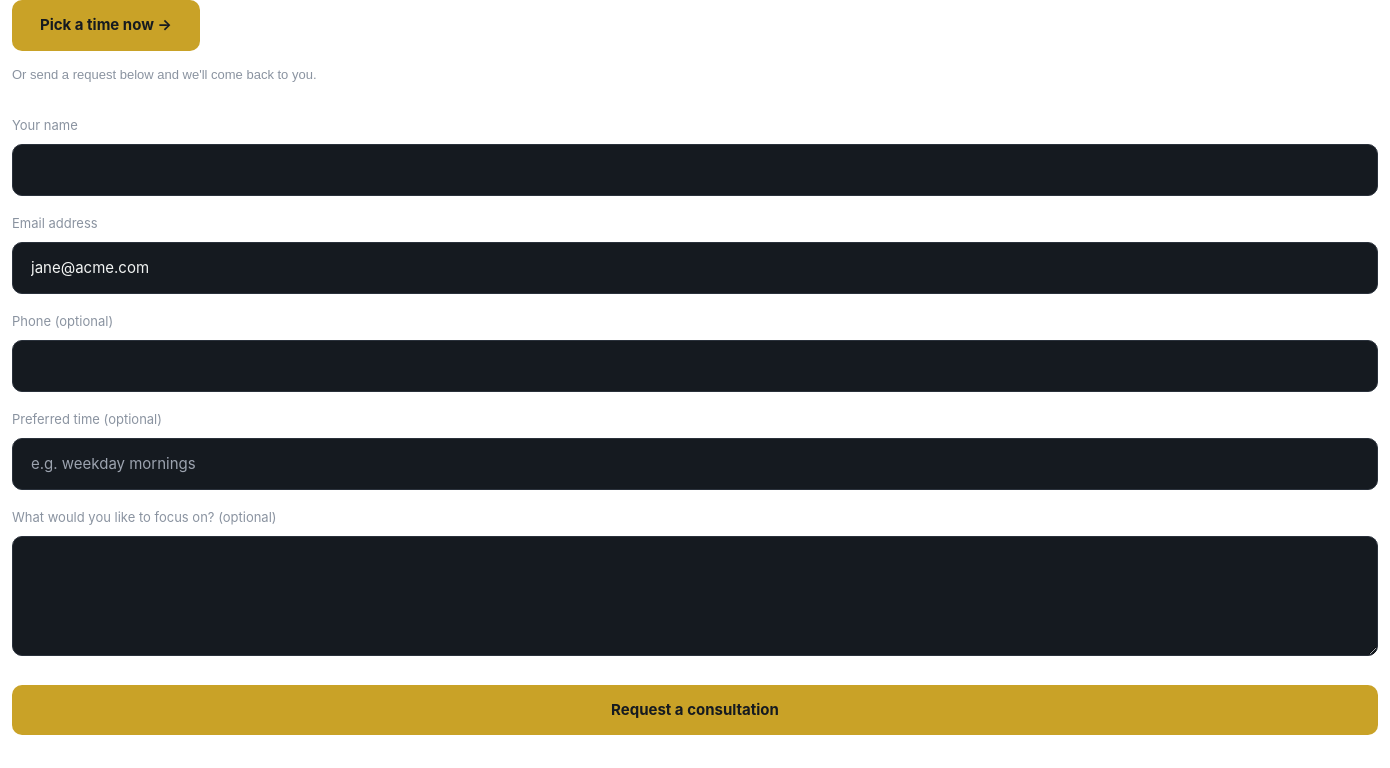
Test: ConsultationForm › confirms once the request is stored
Type "Jane" into the field labelled "Your name" at (695, 170), box [12, 144, 1378, 196]
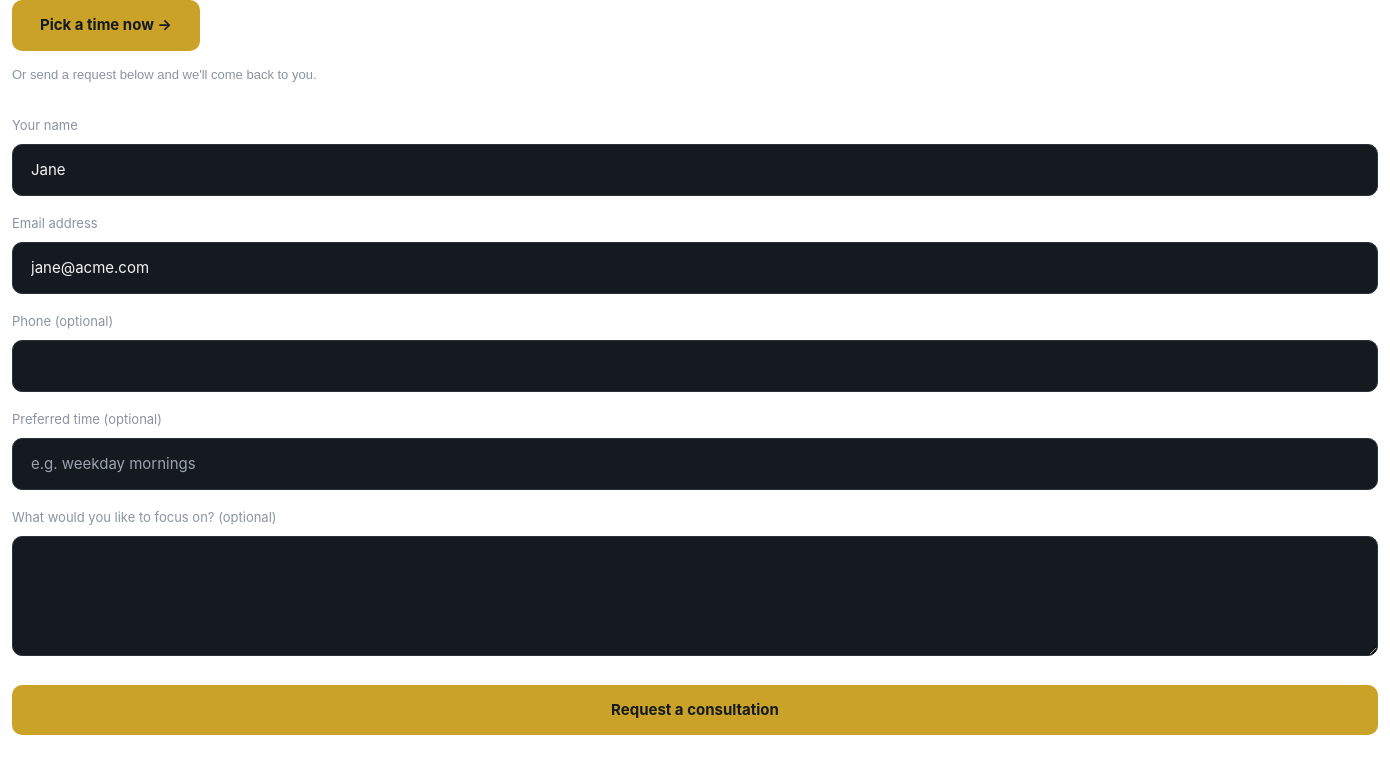
Click the button "Request a consultation" at (695, 710), box [12, 684, 1378, 735]
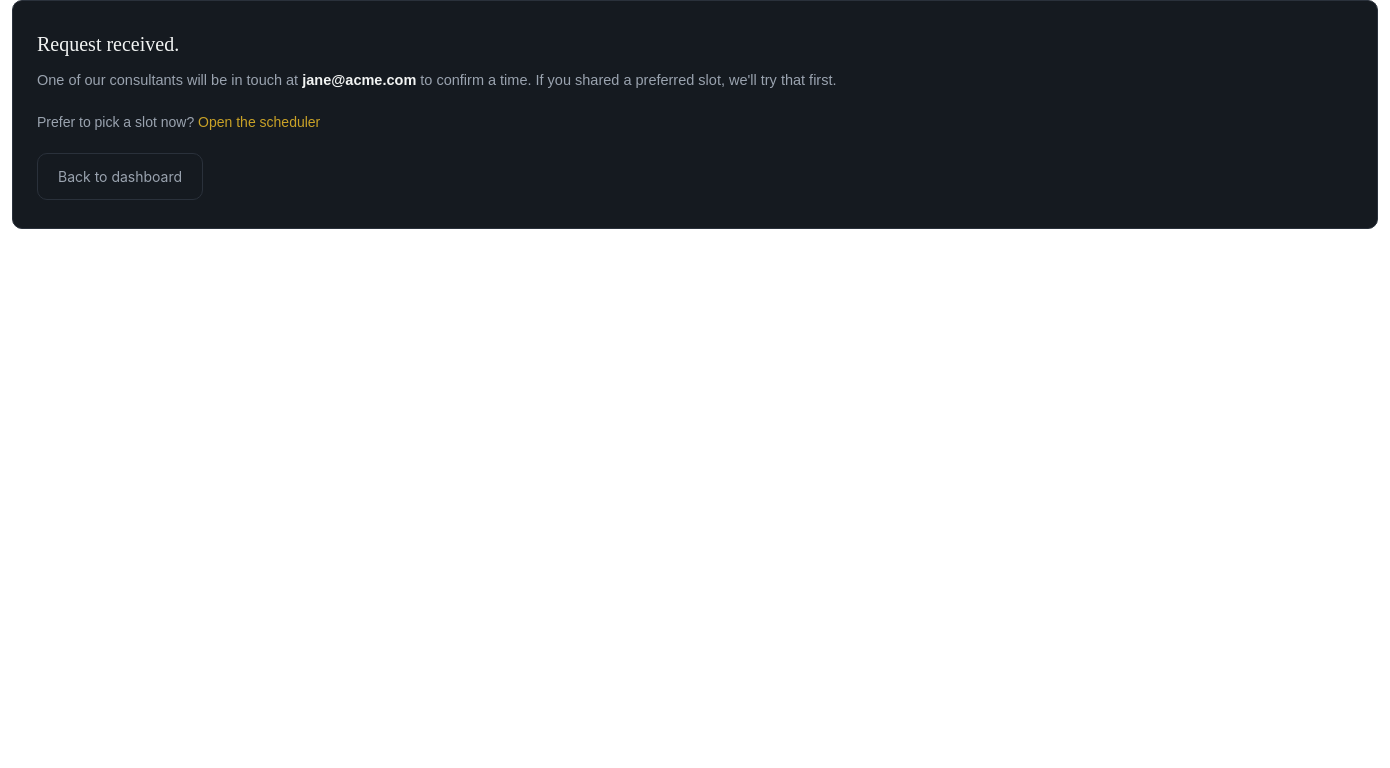
expect the heading "Request received." is shown: met, box [37, 33, 179, 55]
expect the text "jane@acme.com" is shown: met, box [302, 72, 416, 88]
